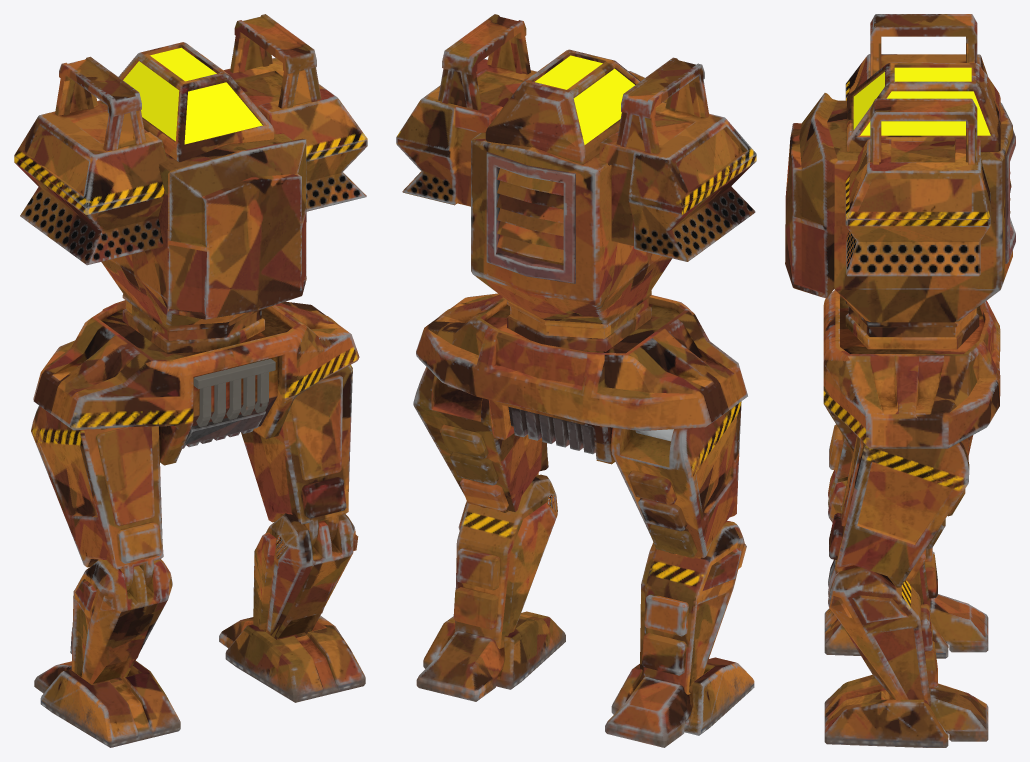
Rendered from wasp_hd.glb.
3 renders of one model, left to right at view 1: azimuth 30°, elevation 25°; view 2: azimuth 150°, elevation 25°; view 3: azimuth 270°, elevation 25°, orthographic. The views are drawn at different scales.
Parts seen in each view (by area): view 1: Torso_LOD0, Waist_LOD0, R Shoulder_LOD0, R Thigh_LOD0, L Shoulder_LOD0, L Thigh_LOD0, Canopy_LOD0, L Calf_LOD0, R Calf_LOD0, R Toe_LOD0, L Toe_LOD0, Front Radiator (+1 smaller); view 2: Waist_LOD0, Torso_LOD0, R Shoulder_LOD0, L Shoulder_LOD0, R Thigh_LOD0, R Calf_LOD0, L Calf_LOD0, Canopy_LOD0, L Thigh_LOD0, R Heel_LOD0, L Heel_LOD0, L Toe_LOD0 (+1 smaller); view 3: Torso_LOD0, L Shoulder_LOD0, Waist_LOD0, L Thigh_LOD0, L Calf_LOD0, Canopy_LOD0, L Toe_LOD0, R Shoulder_LOD0, R Heel_LOD0, L Heel_LOD0, R Calf_LOD0, R Toe_LOD0 (+1 smaller).
Part boxes in pixels (<box>): Torso_LOD0: <box>101,133,306,353</box>; Waist_LOD0: <box>33,300,359,465</box>; R Shoulder_LOD0: <box>14,56,166,265</box>; R Thigh_LOD0: <box>31,405,163,591</box>; L Shoulder_LOD0: <box>223,14,367,211</box>; L Thigh_LOD0: <box>241,365,352,546</box>; Canopy_LOD0: <box>118,42,274,162</box>; L Calf_LOD0: <box>253,513,358,639</box>; R Calf_LOD0: <box>70,559,172,684</box>; R Toe_LOD0: <box>40,661,180,747</box>; L Toe_LOD0: <box>225,615,365,702</box>; Front Radiator: <box>193,358,275,426</box>; Waist_LOD0: <box>416,293,747,464</box>; Torso_LOD0: <box>471,71,672,351</box>; R Shoulder_LOD0: <box>599,57,756,261</box>; L Shoulder_LOD0: <box>396,14,536,206</box>; R Thigh_LOD0: <box>611,401,741,558</box>; R Calf_LOD0: <box>640,521,746,694</box>; L Calf_LOD0: <box>453,474,557,648</box>; Canopy_LOD0: <box>485,49,640,164</box>; L Thigh_LOD0: <box>413,367,548,512</box>; R Heel_LOD0: <box>605,677,692,747</box>; L Heel_LOD0: <box>416,631,504,701</box>; L Toe_LOD0: <box>423,611,565,689</box>; Torso_LOD0: <box>785,93,1015,349</box>; L Shoulder_LOD0: <box>845,98,990,276</box>; Waist_LOD0: <box>823,290,1000,454</box>; L Thigh_LOD0: <box>829,436,969,587</box>; L Calf_LOD0: <box>828,559,937,706</box>; Canopy_LOD0: <box>847,63,1000,151</box>; L Toe_LOD0: <box>824,675,948,747</box>; R Shoulder_LOD0: <box>845,14,987,100</box>; R Heel_LOD0: <box>930,594,988,652</box>; L Heel_LOD0: <box>930,683,988,741</box>; R Calf_LOD0: <box>828,470,937,611</box>; R Toe_LOD0: <box>824,608,948,658</box>.
Size of what is drawn, in the model's own units: 2.98 by 6.14 by 2.07.
2 materials, 2 textured.
